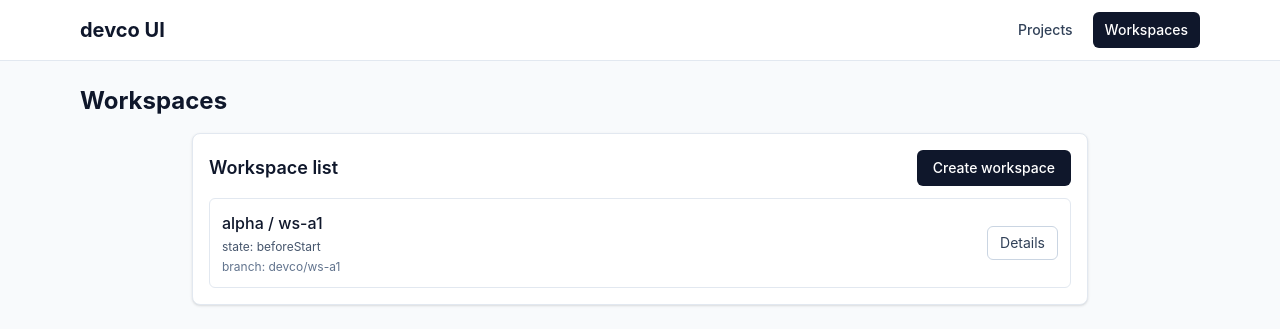
it: App browser flows › moves to workspace details when workspace list page item is clicked
The image size is (1280, 329).
Expected: the text "alpha / ws-a1" is shown, [222,213,322,233]
Step 1. Click the list item "alpha / ws-a1" → (640, 243), box [209,198,1071,288]
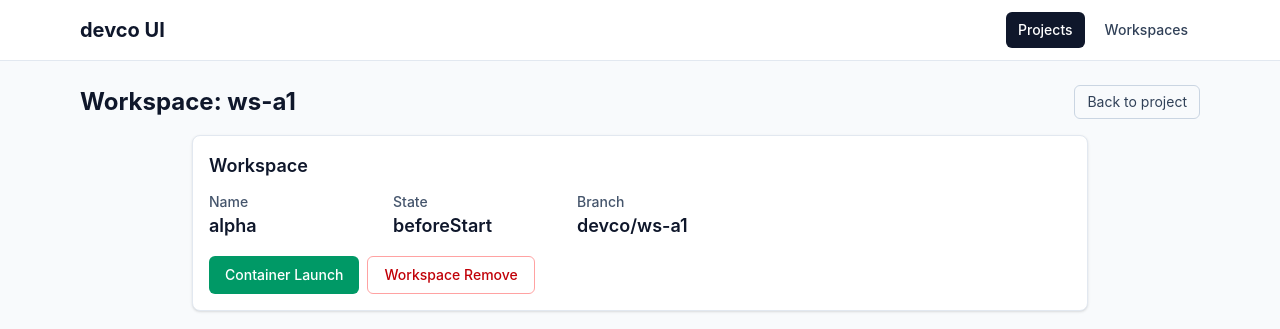
Now the heading "Workspace: ws-a1" is shown, box [80,86,296,118]
